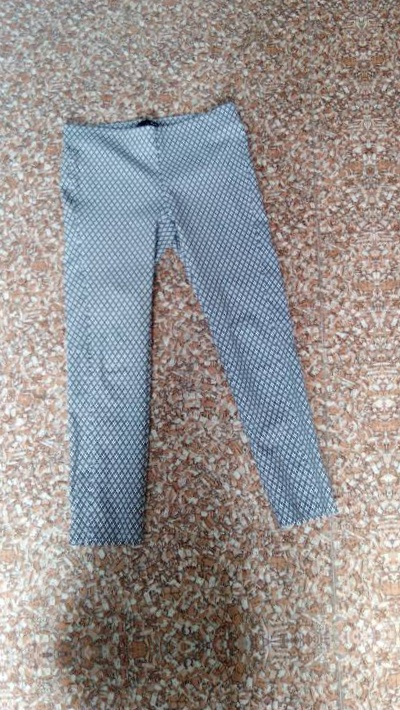Pants: (7, 60, 346, 562)
